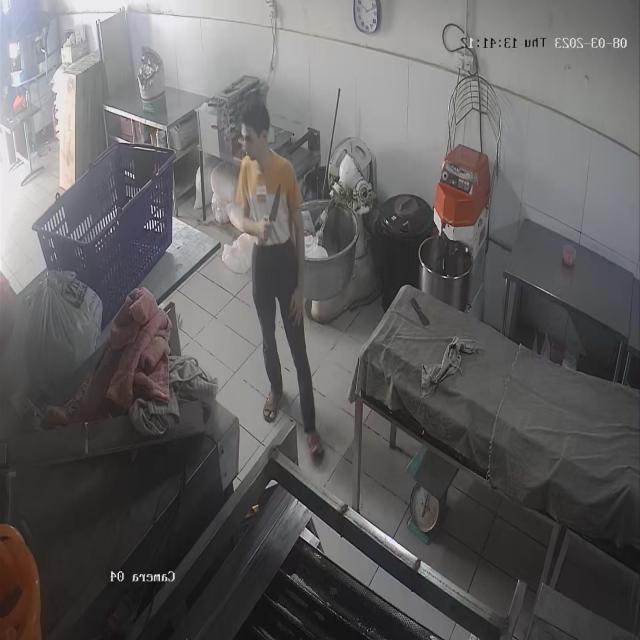Knife: (262, 181, 292, 232)
